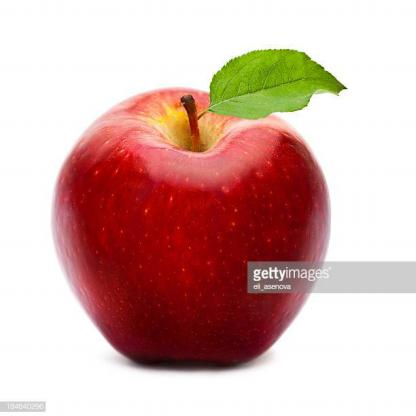Apple leaf: (203, 41, 356, 123)
